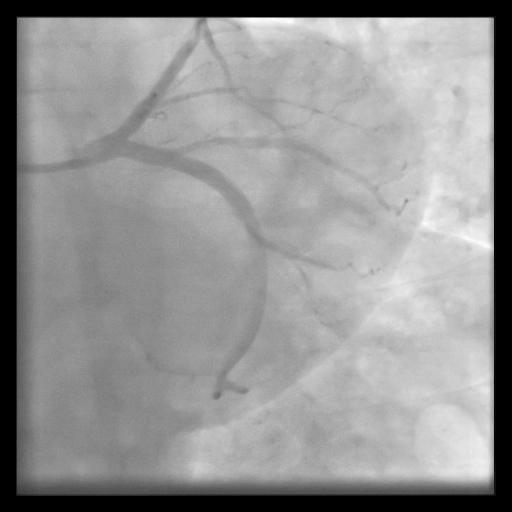Stenosis: (179, 135, 234, 152)
